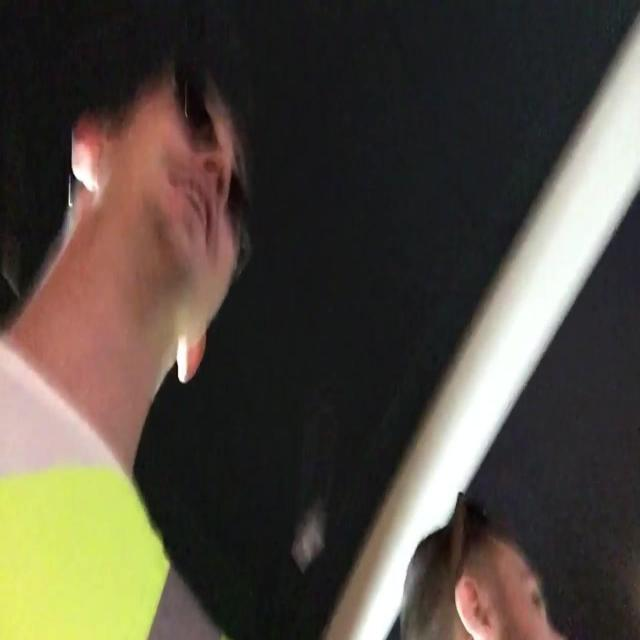Reflective-Jacket: (3, 301, 211, 640)
